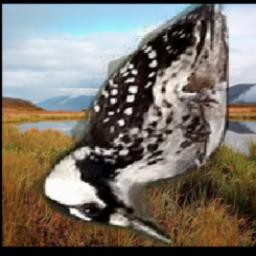Woodpecker: (34, 4, 230, 246)
